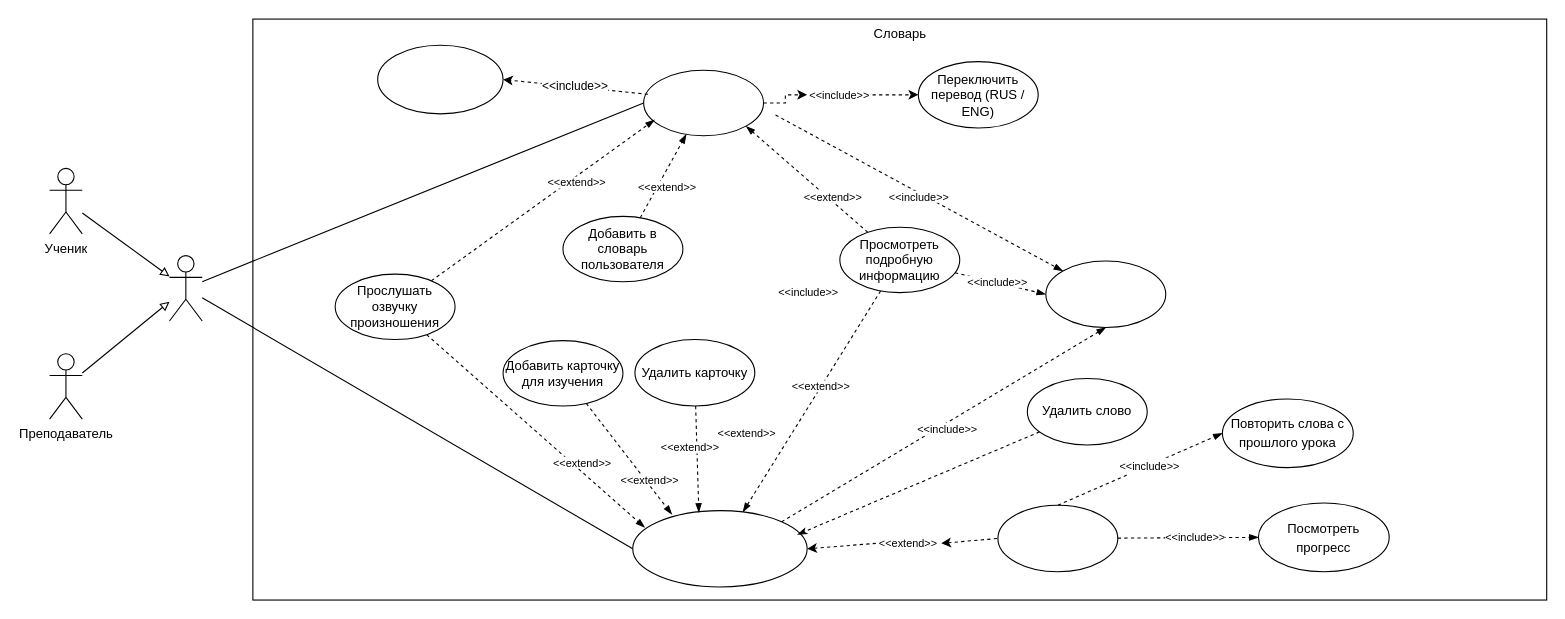
The diagram is 1565 pixels wide and 619 high, and some of its shapes have lost their labels. Here are the shapes that lost their labels. From the top down, the centre of each, then its label:
(x=440, y=79): Добавить слова из прошлого урока
(x=703, y=102): Найти слово в словаре
(x=185, y=288): Пользователь
(x=1105, y=294): Просмотреть перевод
(x=719, y=548): Просмотреть список слов в словаре пользователя
(x=1057, y=538): Повторить слова
